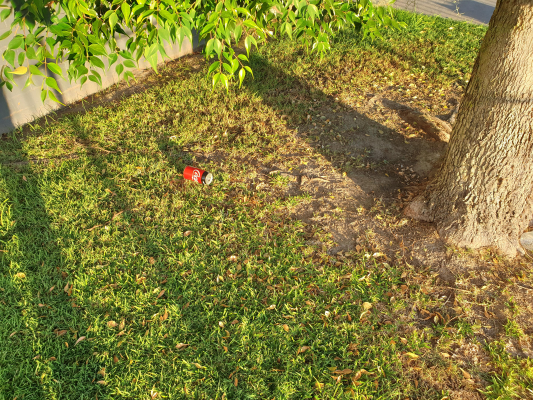Plastic Bottle: (183, 166, 213, 185)
